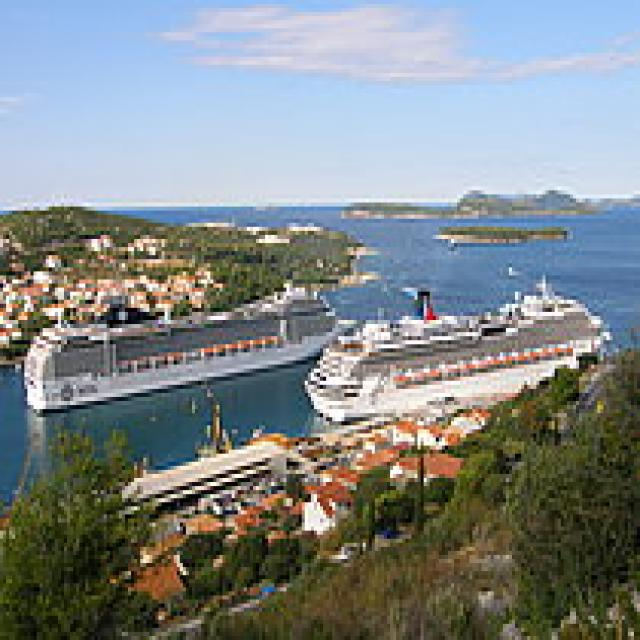Cruise: (298, 268, 616, 422), (15, 280, 354, 413)
